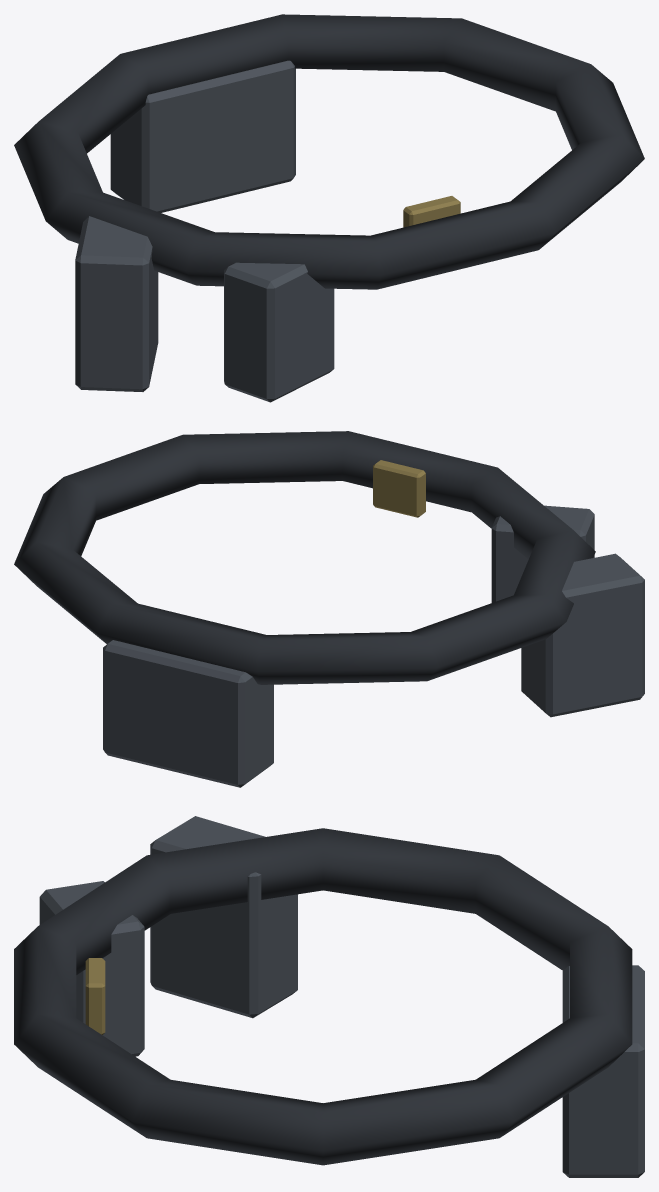
Rendered from npc_belt_pouches.glb.
The picture shows the model from 3 angles, top to bottom: view 1: azimuth 30°, elevation 25°; view 2: azimuth 150°, elevation 25°; view 3: azimuth 270°, elevation 25°; orthographic projection. The views are drawn at different scales.
Visible parts, largest first — view 1: part.npc_belt_pouches; view 2: part.npc_belt_pouches; view 3: part.npc_belt_pouches.
Part boxes in pixels (x1,y1,x2,y2): part.npc_belt_pouches: [14, 14, 644, 402]; part.npc_belt_pouches: [14, 431, 644, 787]; part.npc_belt_pouches: [14, 816, 644, 1177].
Size of the model in its own units: 0.4618 by 0.1128 by 0.3823.
